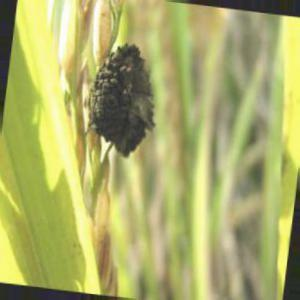Leaf_Scald: (91, 46, 143, 153)
